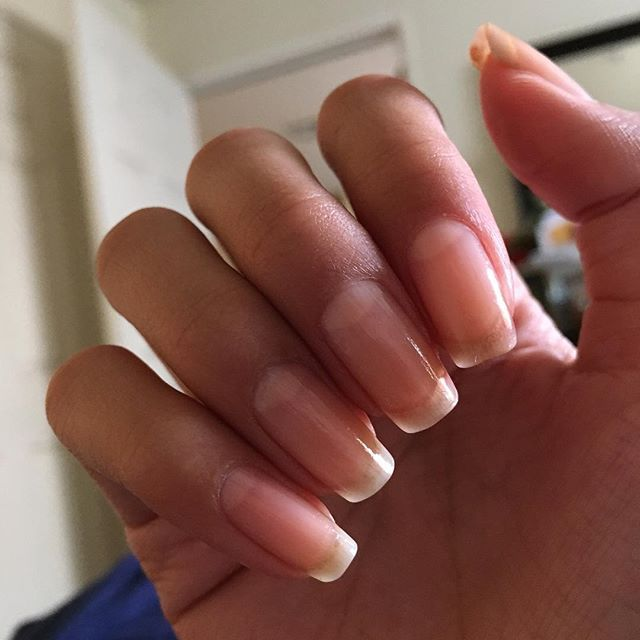nails: (315, 274, 463, 437), (244, 356, 398, 505), (398, 211, 521, 369), (213, 461, 362, 585), (464, 16, 598, 111)
